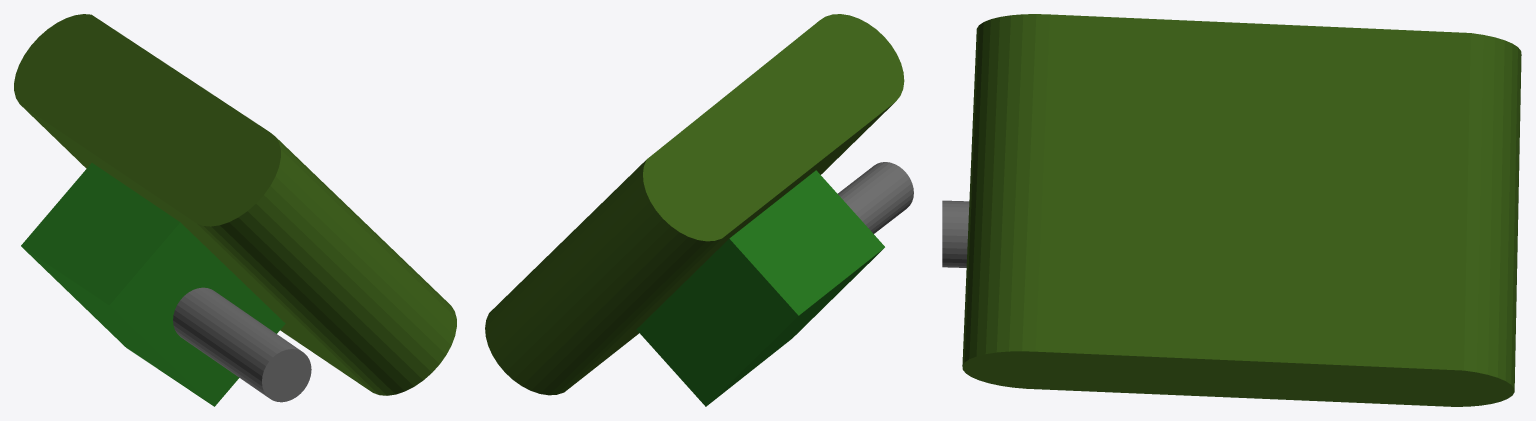
The model's file is testtankplz.fbx.
3 views of the same model, side by side, from view 1: azimuth 30°, elevation 25°; view 2: azimuth 150°, elevation 25°; view 3: azimuth 270°, elevation 25° (orthographic). The views are drawn at different scales.
Visible parts, largest first — view 1: Tank; view 2: Tank; view 3: Tank.
Boxes of the visible parts, left/top/right/bottom form: Tank: left=14, top=14, right=456, bottom=406; Tank: left=485, top=14, right=913, bottom=406; Tank: left=942, top=14, right=1521, bottom=406.
Size of the model in its own units: 1157 by 1190 by 1732.
